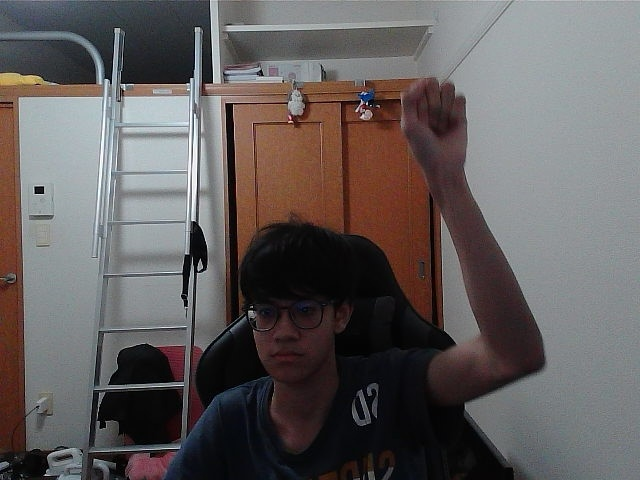closed_palm: (409, 84, 460, 160)
